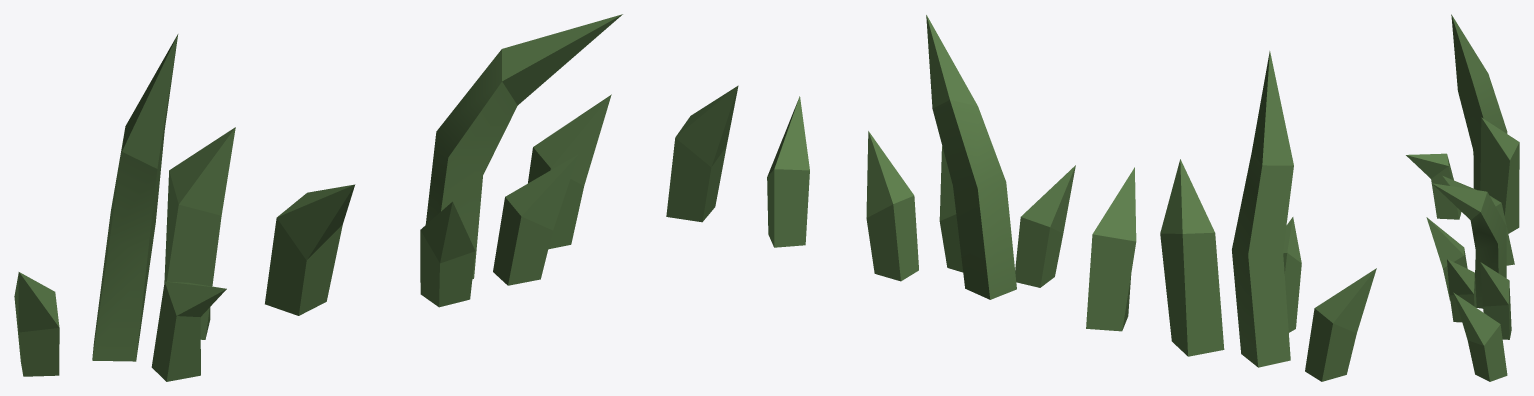
File: SM_Env_Grass_Edge_03.fbx
3 views of the same model, side by side, from view 1: azimuth 30°, elevation 25°; view 2: azimuth 150°, elevation 25°; view 3: azimuth 270°, elevation 25° (orthographic). The views are drawn at different scales.
Parts seen in each view (by area): view 1: SM_Env_Grass_Edge_03; view 2: SM_Env_Grass_Edge_03; view 3: SM_Env_Grass_Edge_03.
Boxes of the visible parts, x1,y1,x2,y2 form: SM_Env_Grass_Edge_03: (14, 14, 738, 381); SM_Env_Grass_Edge_03: (767, 15, 1376, 381); SM_Env_Grass_Edge_03: (1406, 14, 1519, 381).
Size of the model in its own units: 90.51 by 40.42 by 20.75.
